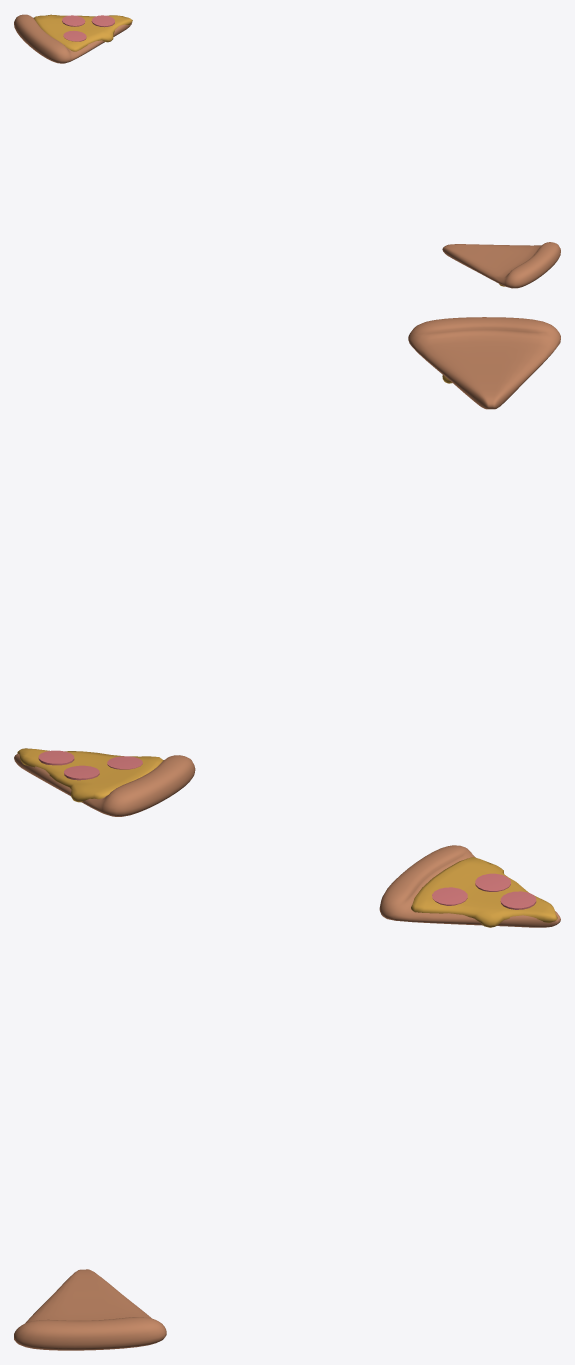
File: pizza-items.glb
3 renders of one model, top to bottom at view 1: azimuth 30°, elevation 25°; view 2: azimuth 150°, elevation 25°; view 3: azimuth 330°, elevation 25°, orthographic. The views are drawn at different scales.
Parts seen in each view (by area): view 1: bread.001, bread.002, cheese.002; view 2: bread.001, bread.002, cheese.002; view 3: bread.001, cheese.002, bread.002.
Boxes of the visible parts, x1,y1,x2,y2 form: bread.001: [442, 242, 560, 288]; bread.002: [14, 14, 132, 63]; cheese.002: [34, 14, 132, 51]; bread.001: [408, 317, 560, 409]; bread.002: [14, 754, 195, 816]; cheese.002: [17, 748, 163, 802]; bread.001: [14, 1269, 166, 1350]; cheese.002: [411, 857, 557, 927]; bread.002: [379, 845, 560, 927].
Size of the model in its own units: 1.22 by 0.1249 by 4.43.
